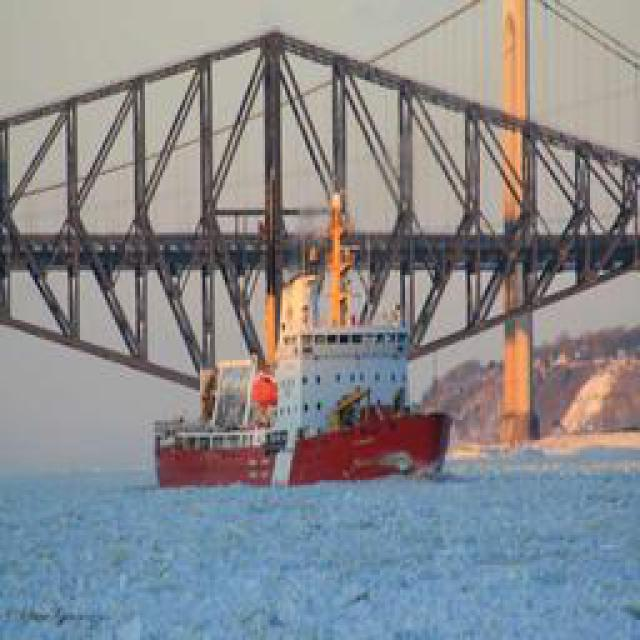Ship: (157, 389, 455, 492)
